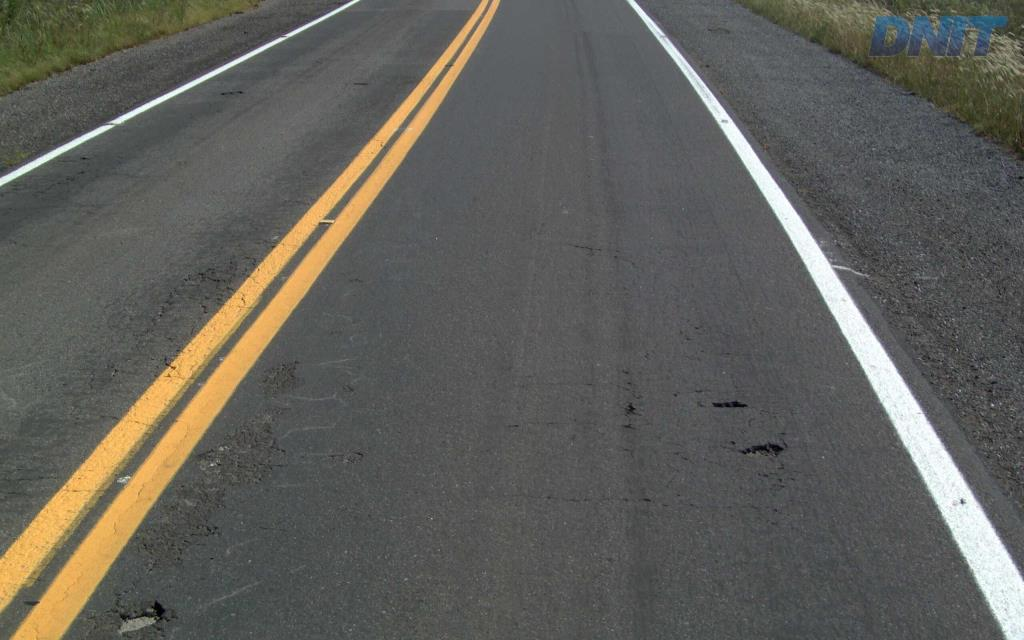pothole: (108, 602, 166, 637), (735, 436, 781, 460), (705, 396, 751, 412)
